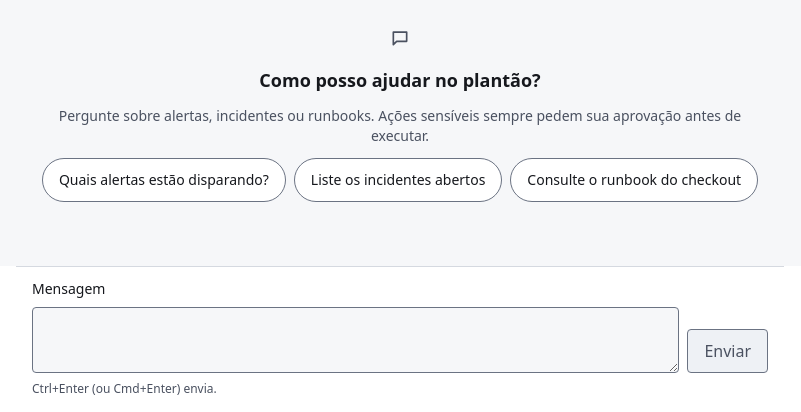
Test: Chat › renders HTML from the agent as inert (no element created)
Type "oi" into the text box labelled "Mensagem" at (356, 340), box [32,307,679,373]
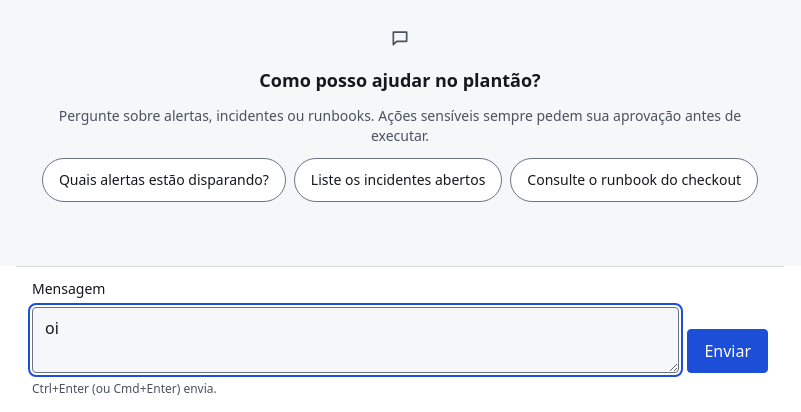
Click the button "Enviar" at (728, 351), box [687,329,768,373]
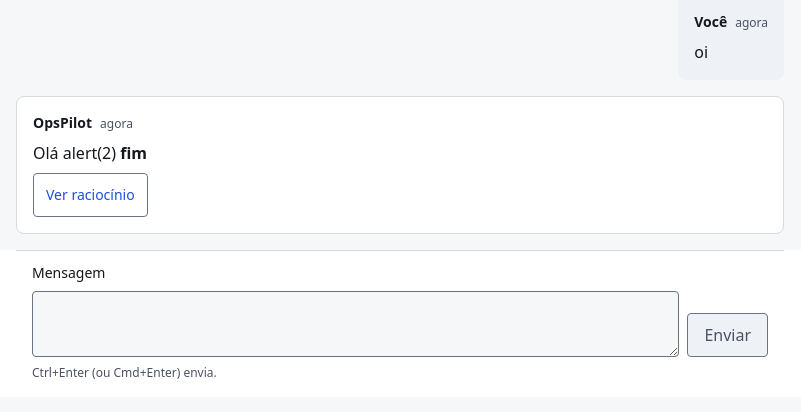
Now the text "fim" is shown, box [120,142,147,164]
